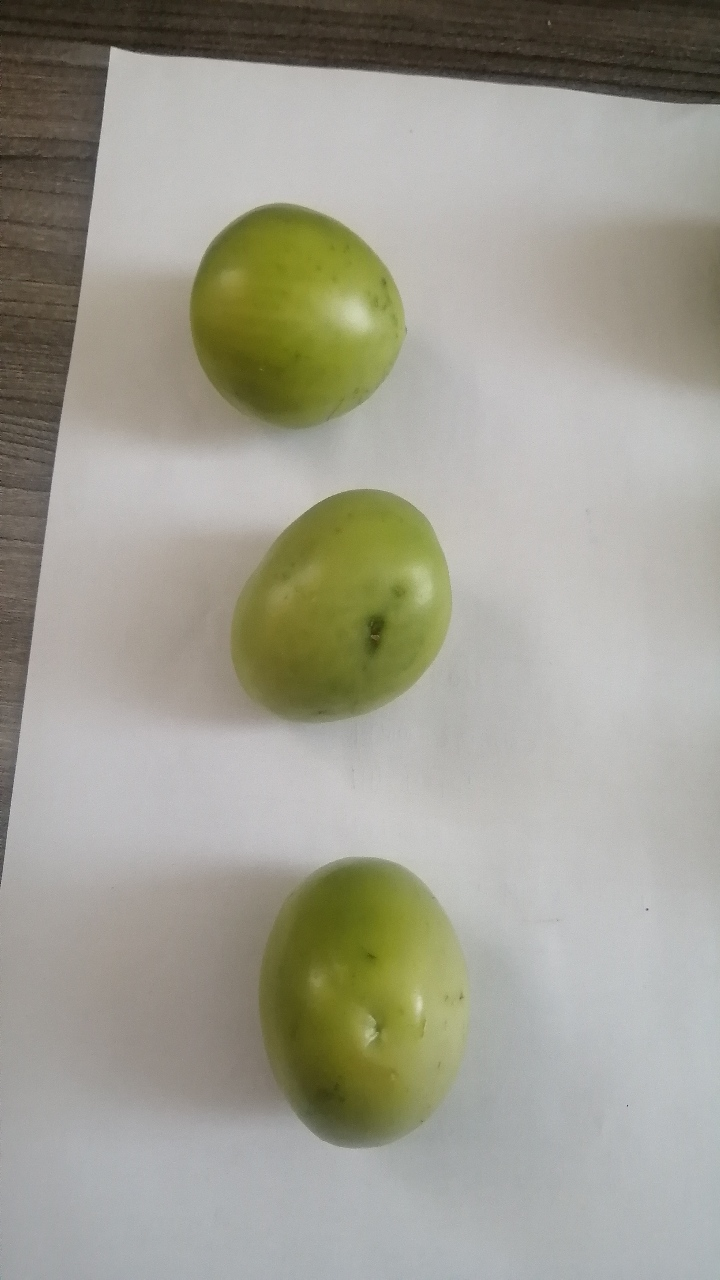tomateVerde: (243, 839, 480, 1162), (204, 480, 469, 737), (166, 182, 423, 446)
